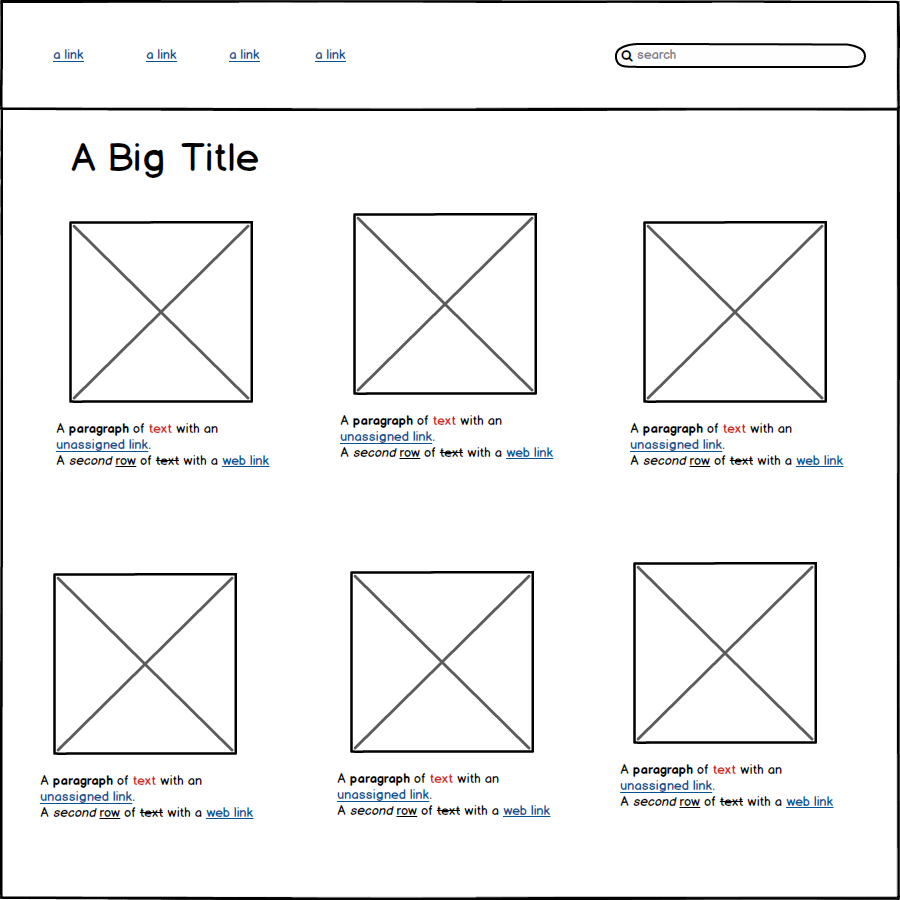h1: (61, 130, 267, 184)
image: (639, 215, 830, 410), (61, 217, 257, 406), (348, 212, 545, 397), (49, 570, 242, 756), (631, 555, 819, 745), (348, 569, 539, 749)
navlink: (215, 37, 279, 74), (304, 37, 357, 75), (135, 38, 189, 74), (44, 38, 93, 70)
p: (331, 767, 563, 830), (613, 756, 850, 815), (34, 767, 265, 826), (50, 418, 275, 477), (624, 415, 848, 473), (341, 410, 556, 467)
search: (608, 34, 872, 75)
